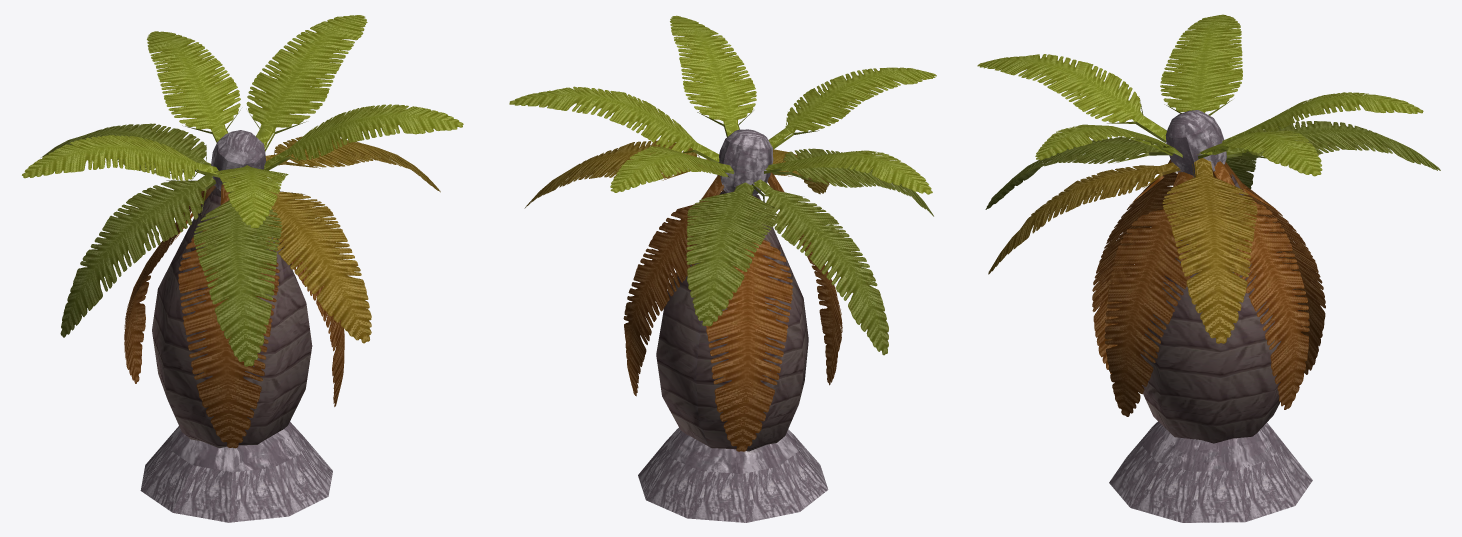
Rendered from PalmTree02-transformed.glb.
3 views of the same model, side by side, from view 1: azimuth 30°, elevation 25°; view 2: azimuth 150°, elevation 25°; view 3: azimuth 270°, elevation 25° (orthographic). The views are drawn at different scales.
Visible parts, largest first — view 1: LeavePalmTree02_01, PalmTree02; view 2: LeavePalmTree02_01, PalmTree02; view 3: LeavePalmTree02_01, PalmTree02.
Part boxes in pixels (<box>): LeavePalmTree02_01: <box>22,15,463,448</box>; PalmTree02: <box>140,130,332,522</box>; LeavePalmTree02_01: <box>509,15,936,451</box>; PalmTree02: <box>638,129,828,522</box>; LeavePalmTree02_01: <box>977,14,1440,416</box>; PalmTree02: <box>1109,110,1312,522</box>.
Size of the model in its own units: 11.1 by 9.69 by 10.35.
Materials: 2 (2 with a texture image).
